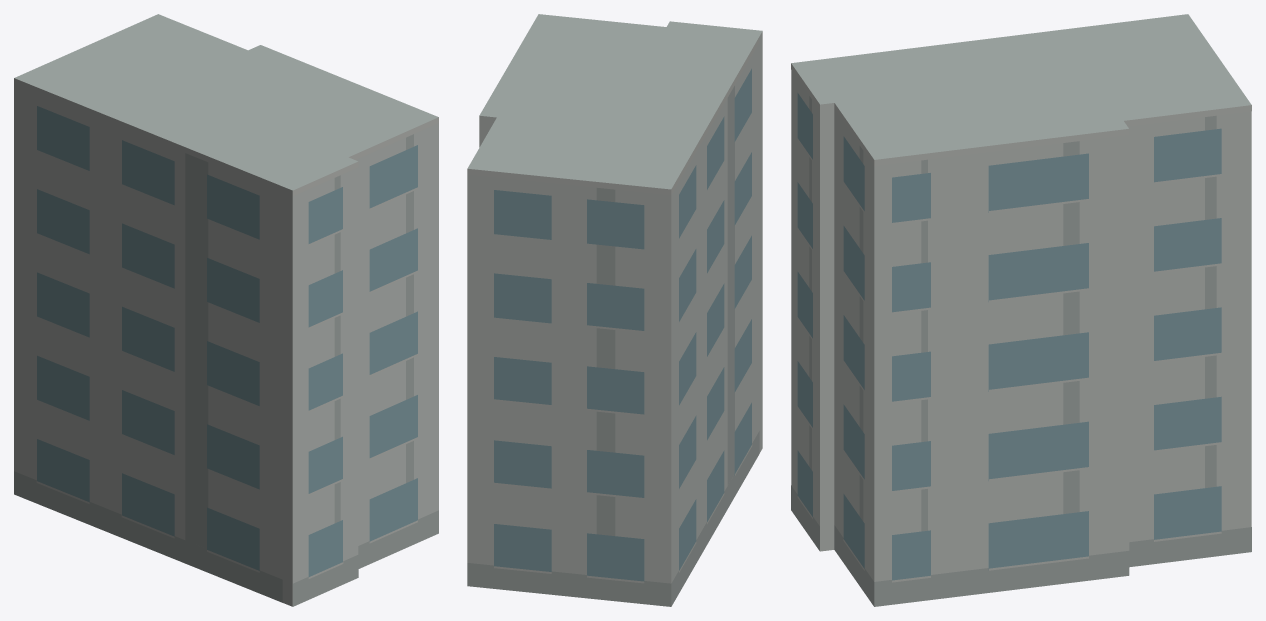
The model's file is survey-upis-32982246.glb.
The picture shows the model from 3 angles, left to right: view 1: azimuth 30°, elevation 25°; view 2: azimuth 150°, elevation 25°; view 3: azimuth 270°, elevation 25°; orthographic projection. The views are drawn at different scales.
Visible parts, largest first — view 1: survey-upis-32982246.tmp; view 2: survey-upis-32982246.tmp; view 3: survey-upis-32982246.tmp.
Boxes of the visible parts, box(x1,y1,x2,y2) form: survey-upis-32982246.tmp: box(14, 14, 438, 606); survey-upis-32982246.tmp: box(467, 14, 762, 606); survey-upis-32982246.tmp: box(791, 14, 1251, 606).
Size of the model in its own units: 12.12 by 17.3 by 16.17.
